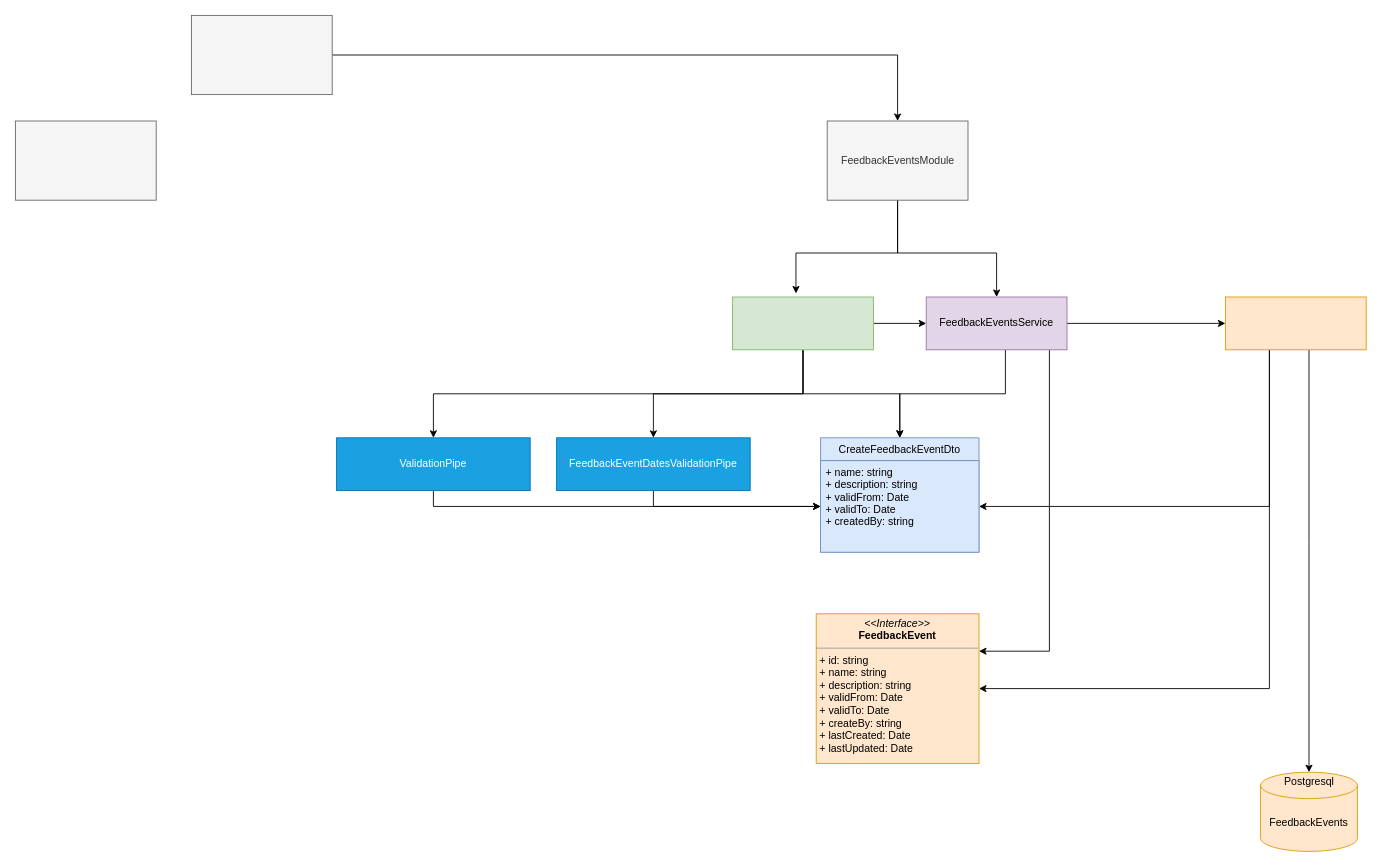
Image size: 1382x867. Some labels were removed from this diagram. Here are the shapes that lost their labels. From the top down, the centre of each, then its label:
point (261, 55): AppModule
point (85, 160): AuthModule
point (802, 323): FeedbackEventsController
point (1295, 323): FeedbackEventRepository
